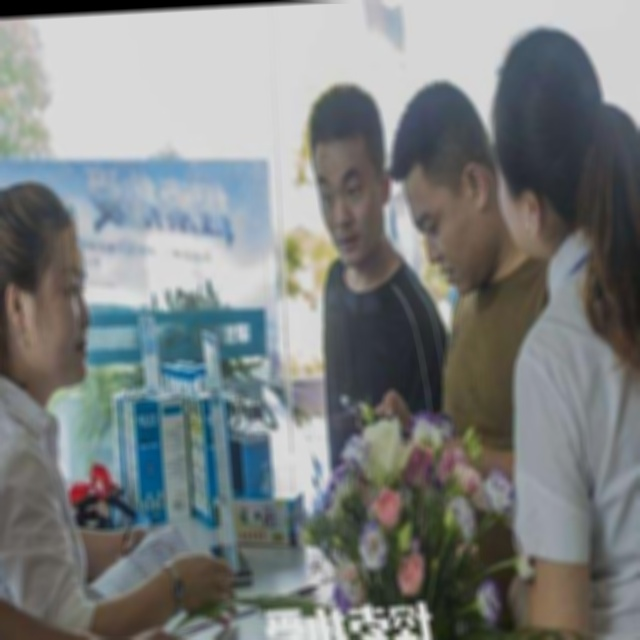Sin_Casco_Mascarrilla: (307, 78, 390, 261)
